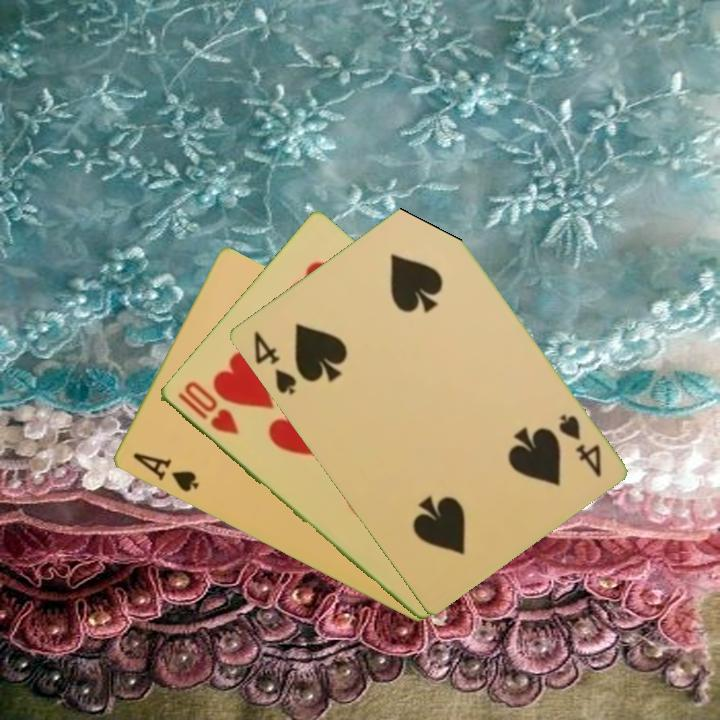10h: (173, 378, 241, 438)
4s: (249, 327, 299, 398), (554, 410, 604, 481)
As: (128, 449, 201, 495)
